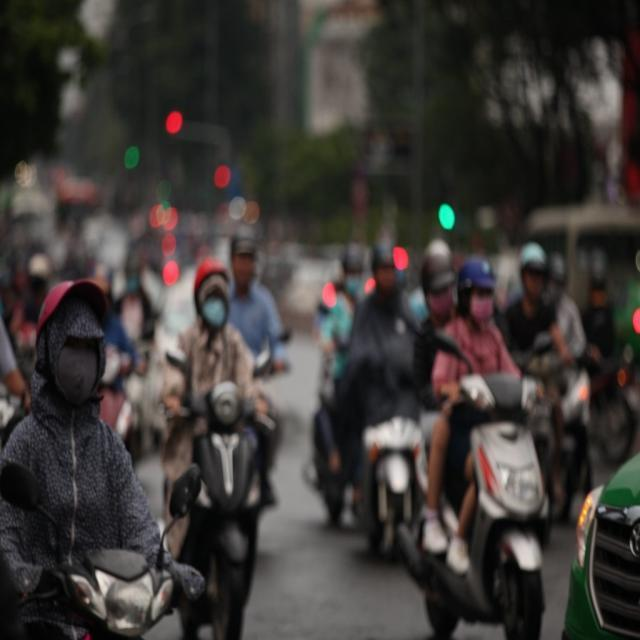motorcycle: (159, 361, 285, 640), (444, 360, 554, 640), (346, 384, 437, 566), (19, 539, 180, 640), (528, 339, 598, 509)
